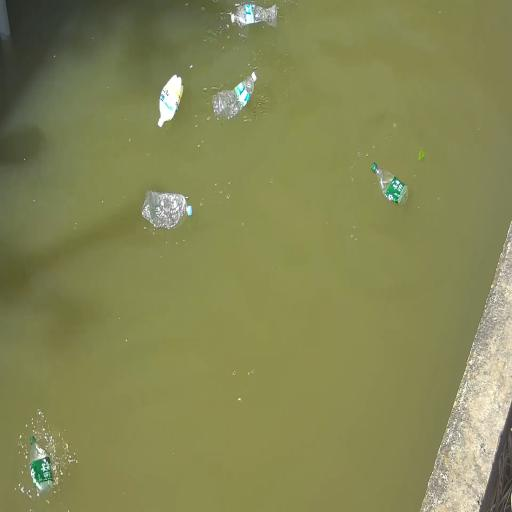plastic: (213, 73, 256, 119), (142, 191, 192, 229), (231, 2, 279, 34), (372, 163, 408, 204), (30, 436, 53, 494), (158, 74, 183, 127)
